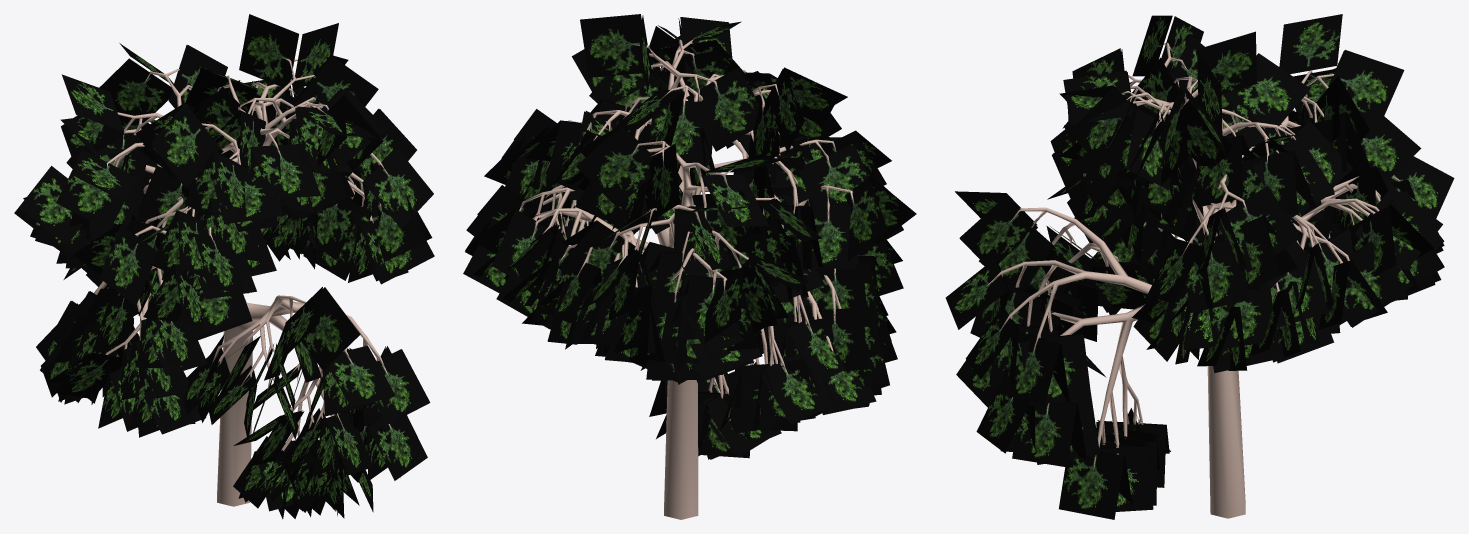
The model's file is tree.glb.
3 renders of one model, left to right at view 1: azimuth 30°, elevation 25°; view 2: azimuth 150°, elevation 25°; view 3: azimuth 270°, elevation 25°, orthographic. The views are drawn at different scales.
Size of the model in its own units: 6.83 by 8.13 by 7.6.
Materials: 2 (1 with a texture image).
